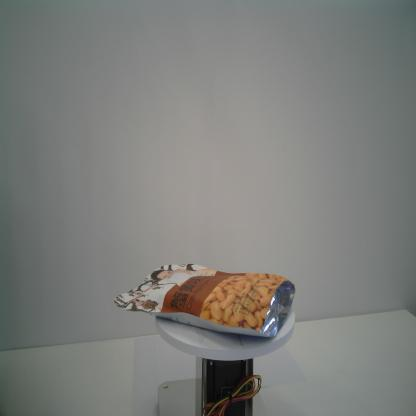Dried Fruit: (114, 264, 296, 338)
